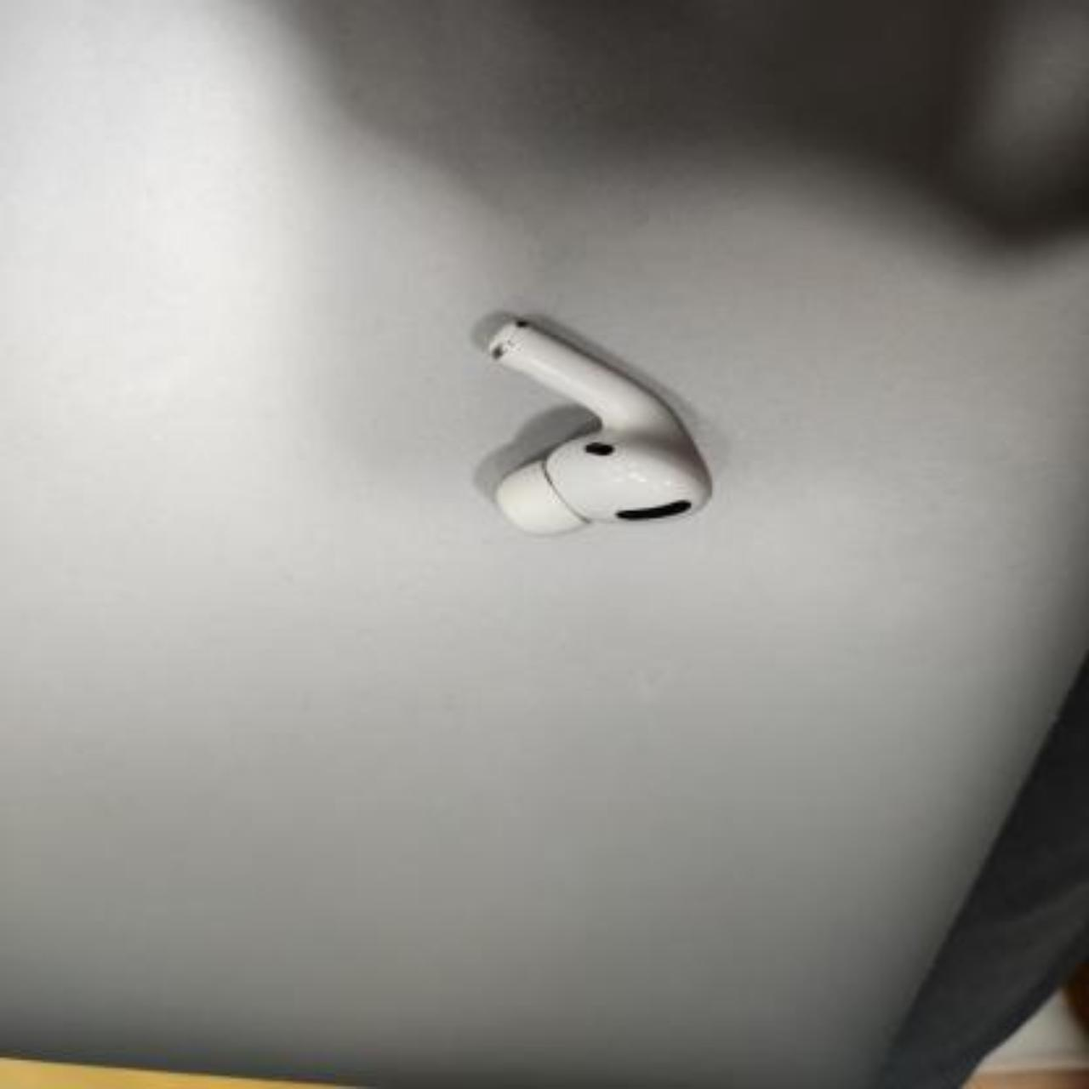Airpods_Units: (403, 307, 749, 547)
